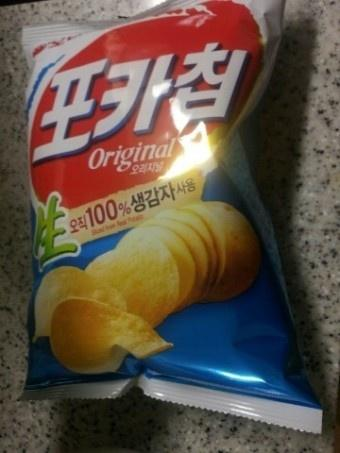snack: (17, 0, 326, 435)
